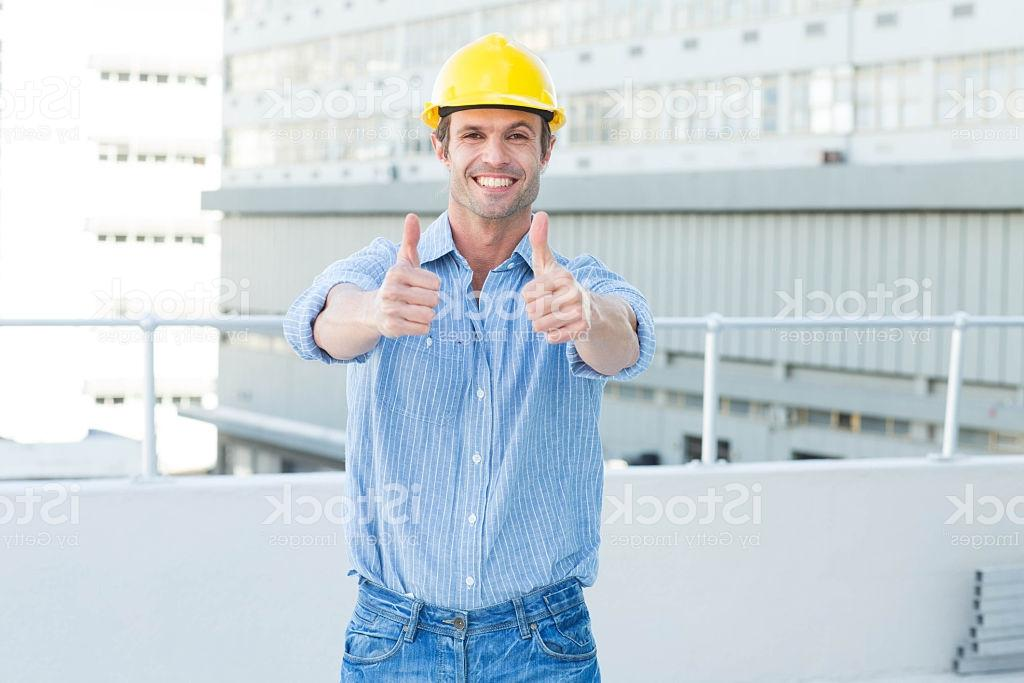thumbsup: (521, 211, 591, 345), (376, 213, 445, 340)
